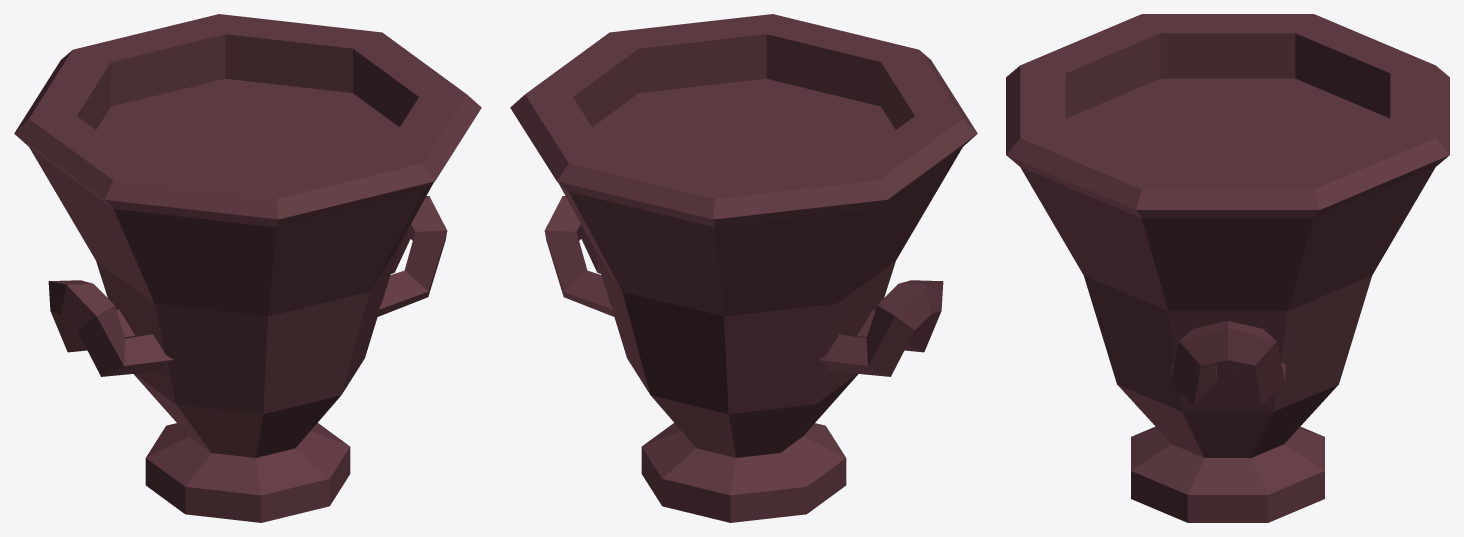
File: SM_Vase_Calyx_Empire.fbx
3 renders of one model, left to right at view 1: azimuth 30°, elevation 25°; view 2: azimuth 150°, elevation 25°; view 3: azimuth 270°, elevation 25°, orthographic.
Parts seen in each view (by area): view 1: SM_Vase_Calyx_Empire; view 2: SM_Vase_Calyx_Empire; view 3: SM_Vase_Calyx_Empire.
Part boxes in pixels (x1=…): SM_Vase_Calyx_Empire: x1=14, y1=14, x2=481, y2=522; SM_Vase_Calyx_Empire: x1=510, y1=14, x2=977, y2=522; SM_Vase_Calyx_Empire: x1=1006, y1=14, x2=1449, y2=522.
Size of the model in its own units: 0.4836 by 0.457 by 0.4836.
